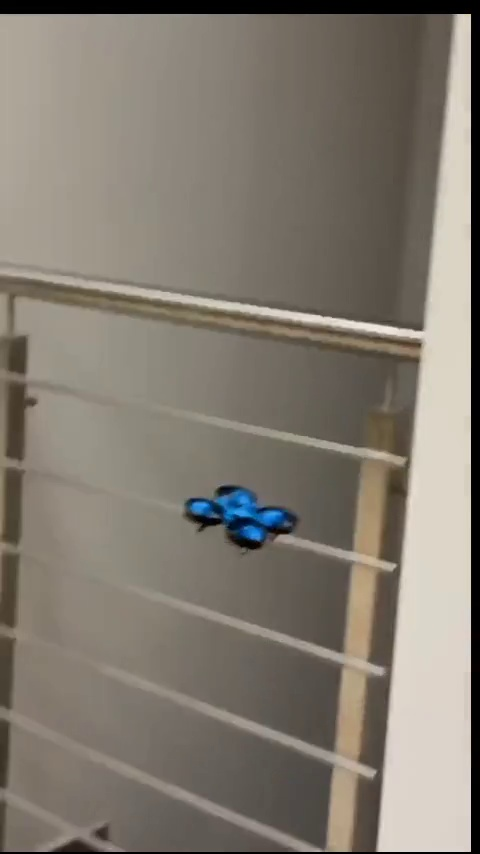drone: (188, 483, 293, 549)
